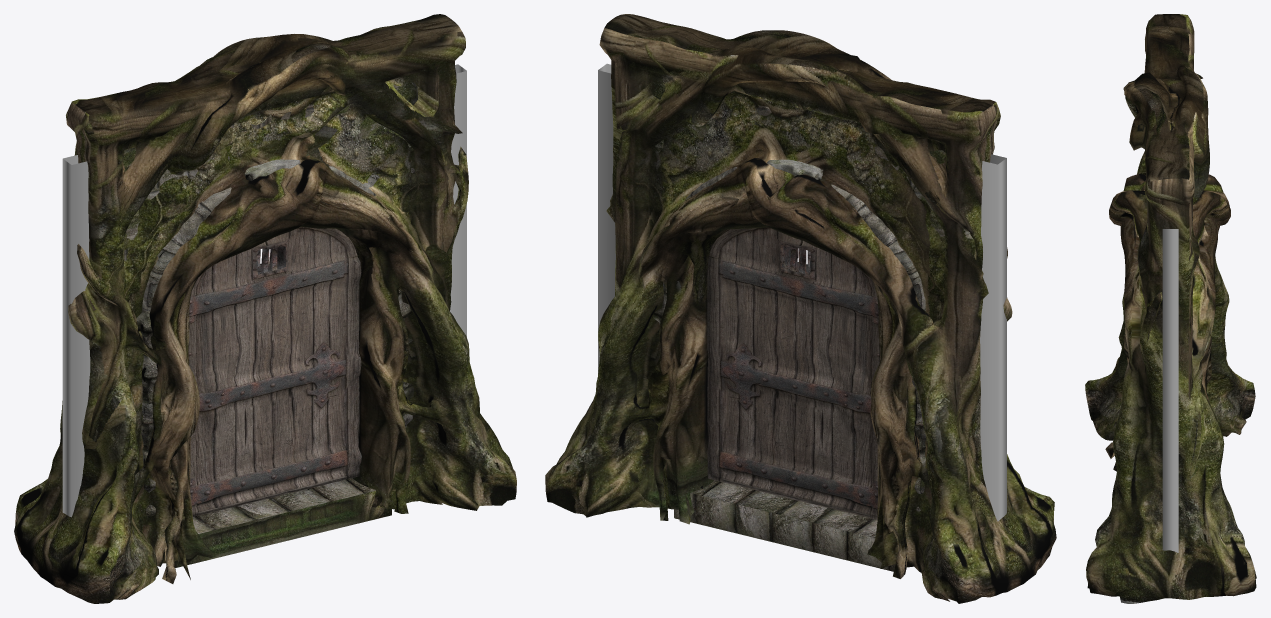
Rendered from HC_Door_Castle_Maze.fbx.
3 renders of one model, left to right at view 1: azimuth 30°, elevation 25°; view 2: azimuth 150°, elevation 25°; view 3: azimuth 270°, elevation 25°, orthographic. The views are drawn at different scales.
Visible parts, largest first — view 1: HC_MazeDoor_Frame, HC_CastleDoor_Door, HC_ClockTowerDoorFrame, HC_CastleDoor_Frame; view 2: HC_MazeDoor_Frame, HC_CastleDoor_Door, HC_CastleDoor_Frame, HC_ClockTowerDoorFrame; view 3: HC_MazeDoor_Frame, HC_ClockTowerDoorFrame.
Boxes of the visible parts, bbox=[...] form: HC_MazeDoor_Frame: bbox=[14, 14, 516, 603]; HC_CastleDoor_Door: bbox=[188, 227, 361, 516]; HC_ClockTowerDoorFrame: bbox=[62, 64, 466, 517]; HC_CastleDoor_Frame: bbox=[123, 82, 417, 533]; HC_MazeDoor_Frame: bbox=[545, 14, 1056, 603]; HC_CastleDoor_Door: bbox=[707, 227, 879, 519]; HC_CastleDoor_Frame: bbox=[652, 82, 945, 571]; HC_ClockTowerDoorFrame: bbox=[598, 63, 1006, 521]; HC_MazeDoor_Frame: bbox=[1085, 14, 1256, 603]; HC_ClockTowerDoorFrame: bbox=[1162, 229, 1178, 552].
Bounding box in the file's own units: 5.61 × 2.09 × 5.87.
